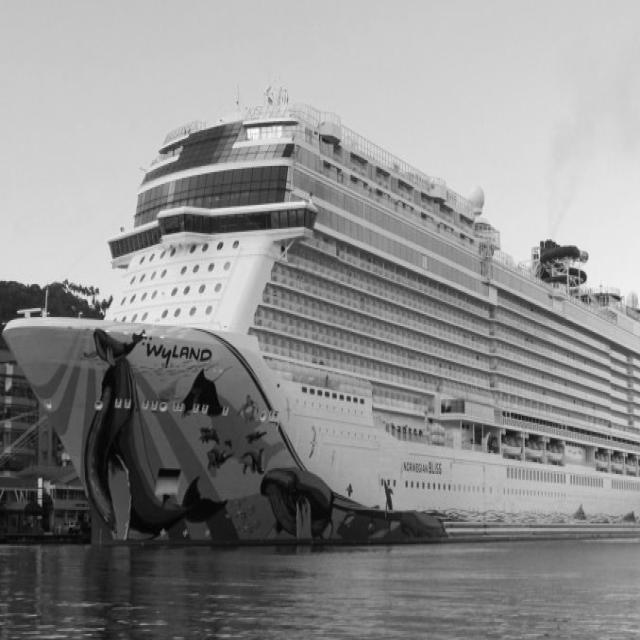cruises: (1, 80, 640, 565)
